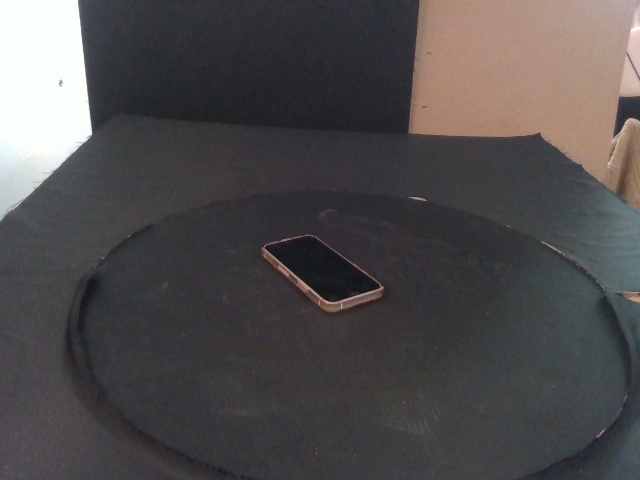phone: (261, 234, 385, 313)
